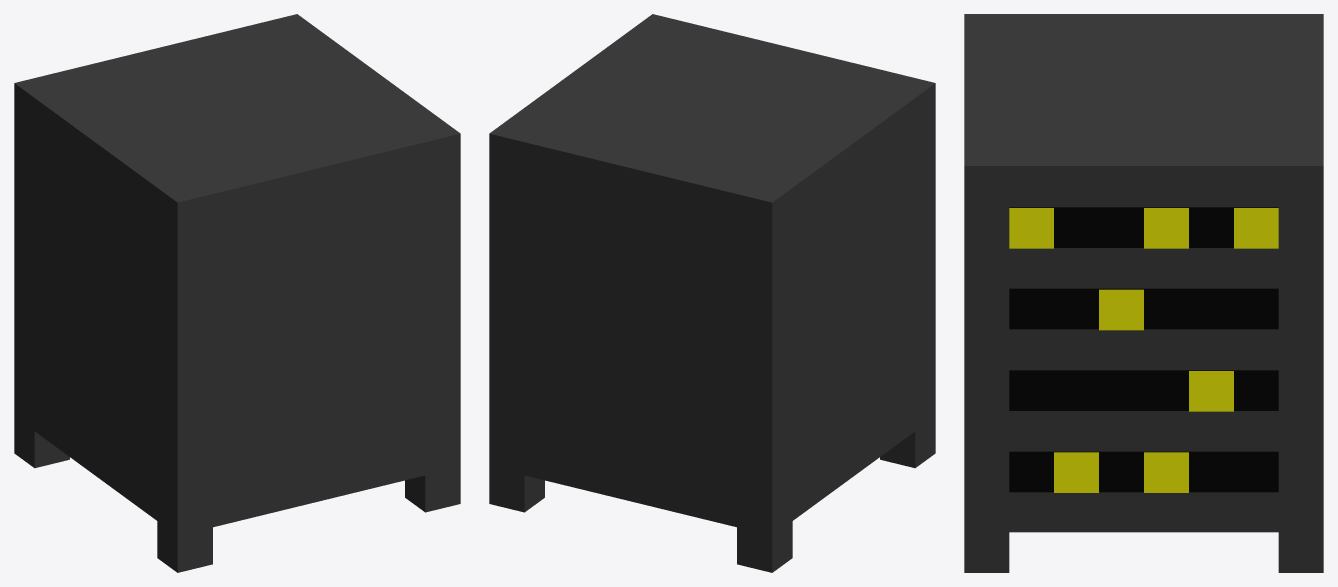
Rendered from Server Rack.fbx.
The picture shows the model from 3 angles, left to right: view 1: azimuth 30°, elevation 25°; view 2: azimuth 150°, elevation 25°; view 3: azimuth 270°, elevation 25°; orthographic projection. The views are drawn at different scales.
Parts seen in each view (by area): view 1: Cube; view 2: Cube; view 3: Cube.
Part boxes in pixels (x1,y1,x2,y2): Cube: [14, 14, 460, 572]; Cube: [489, 14, 935, 572]; Cube: [964, 14, 1323, 572].
Size of the model in its own units: 2.02 by 2.5 by 2.
